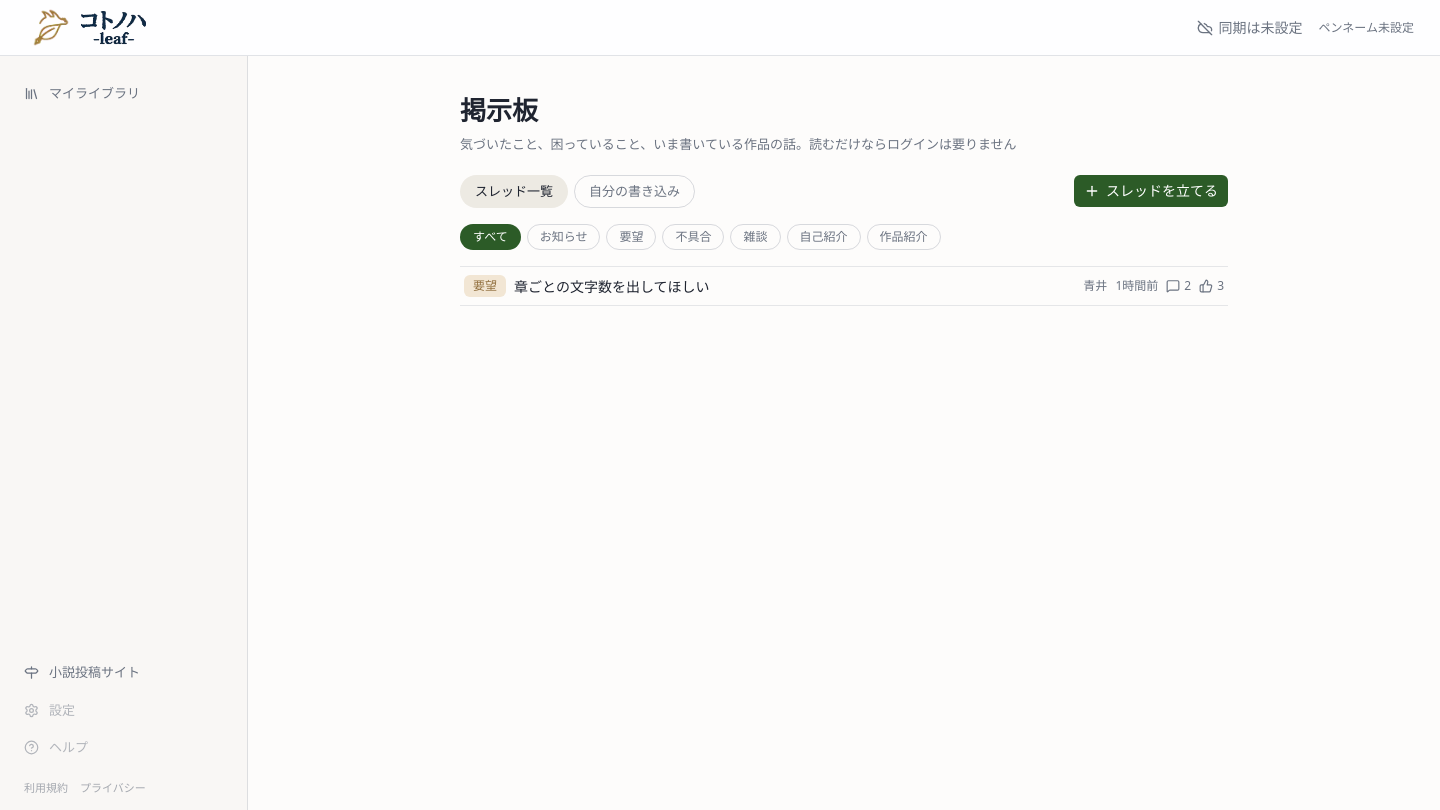
BoardPage（掲示板の一覧） › 立てたスレッドが、読み込み直さなくても一覧に出る
Expected: the heading "章ごとの文字数を出してほしい" is shown, 514,276 -> 710,296
Click the button "スレッドを立てる" at (1151, 191), box 1074,175 -> 1228,207
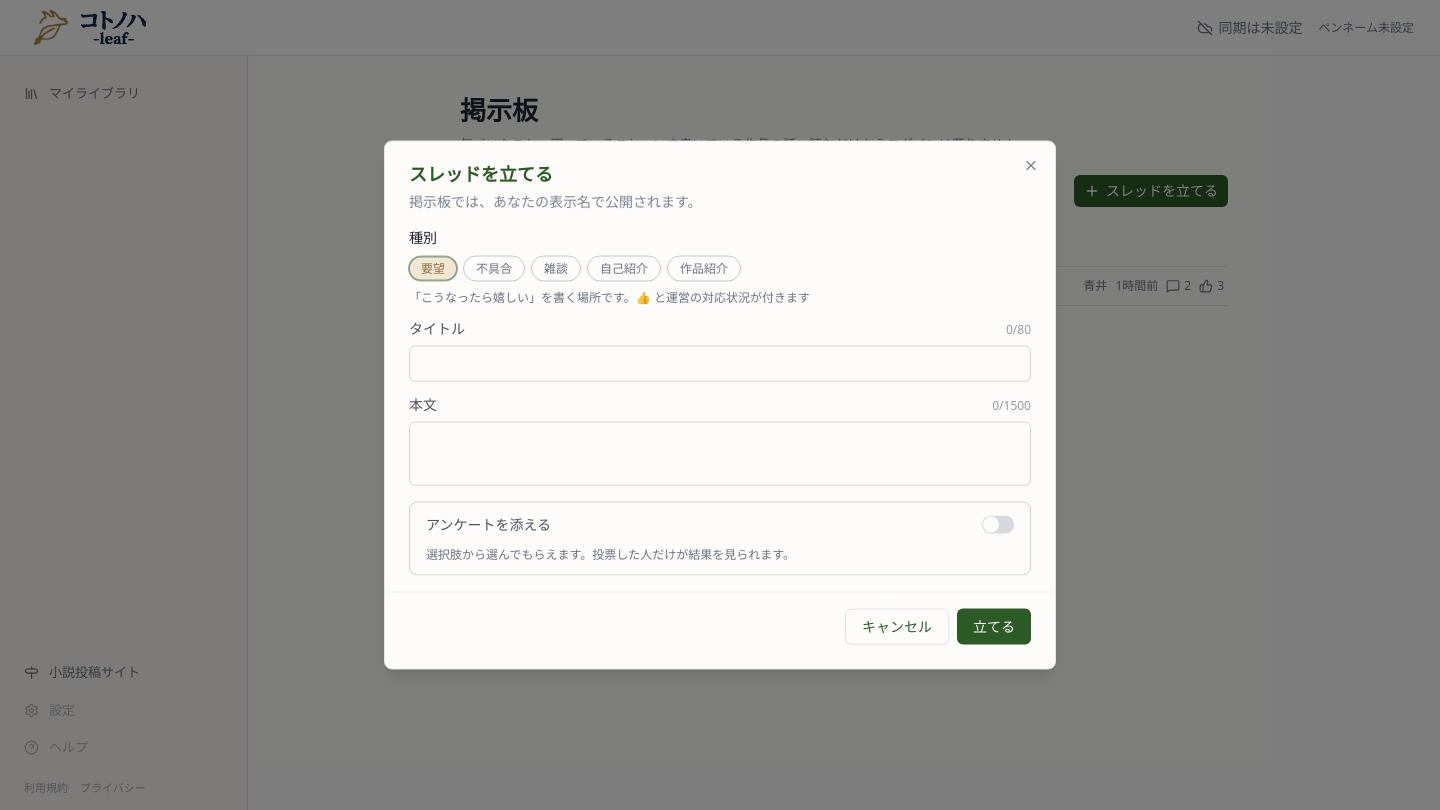
Type "新しく立てたスレ" into the field labelled "タイトル" at (720, 364), box 409,346 -> 1031,382
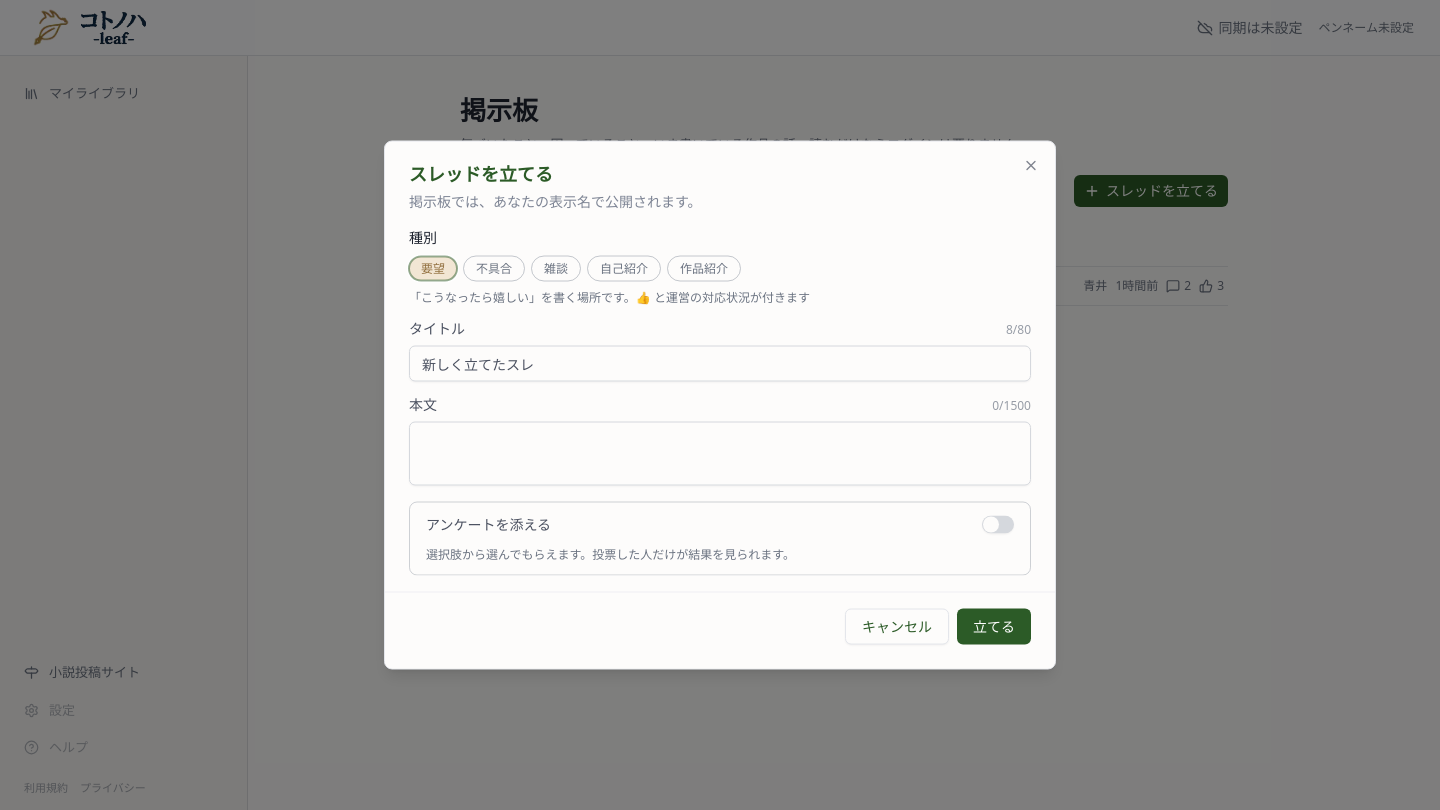
Type "本文です" into the text box labelled "本文" at (720, 454), box 409,422 -> 1031,486
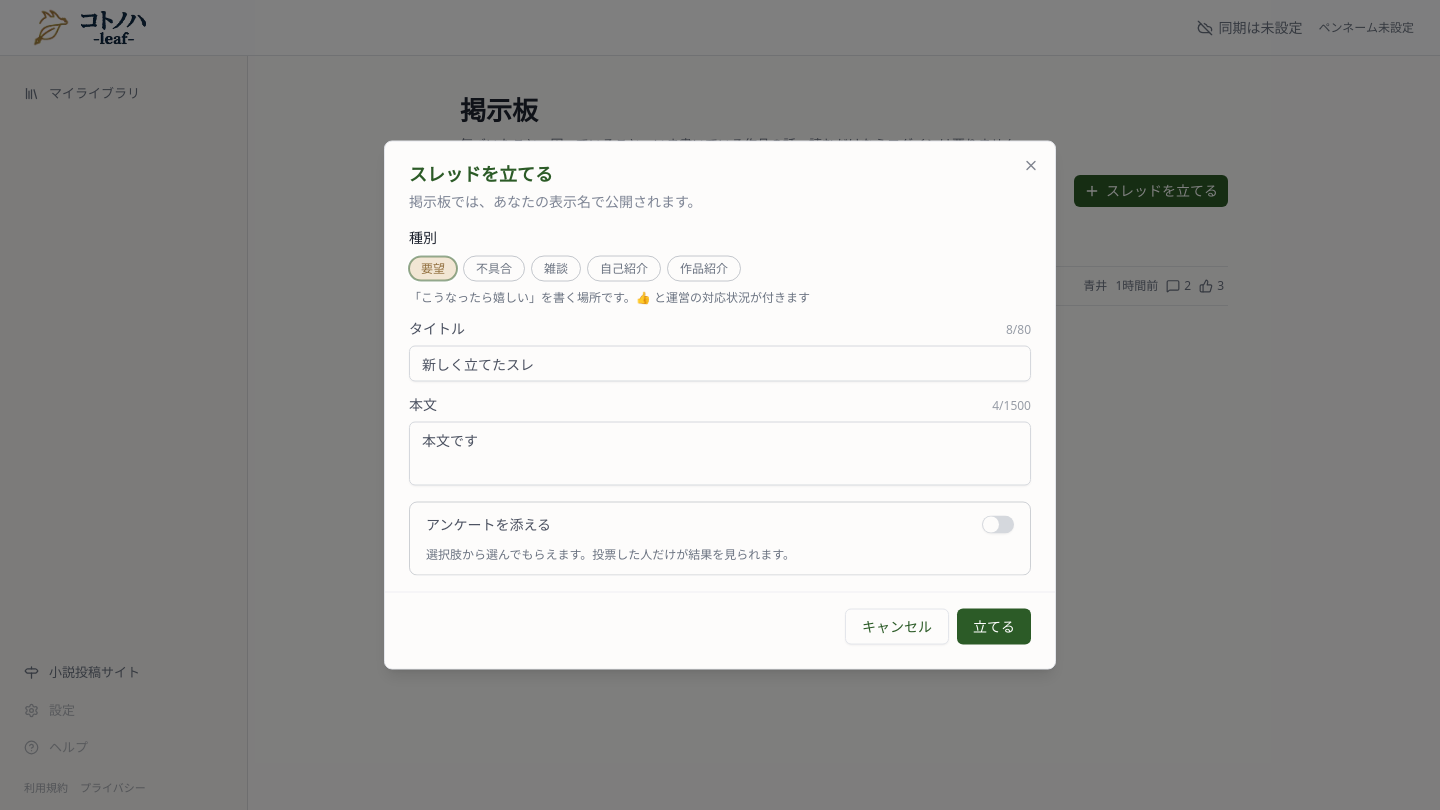
Click the button "立てる" at (994, 626), box 957,608 -> 1031,644
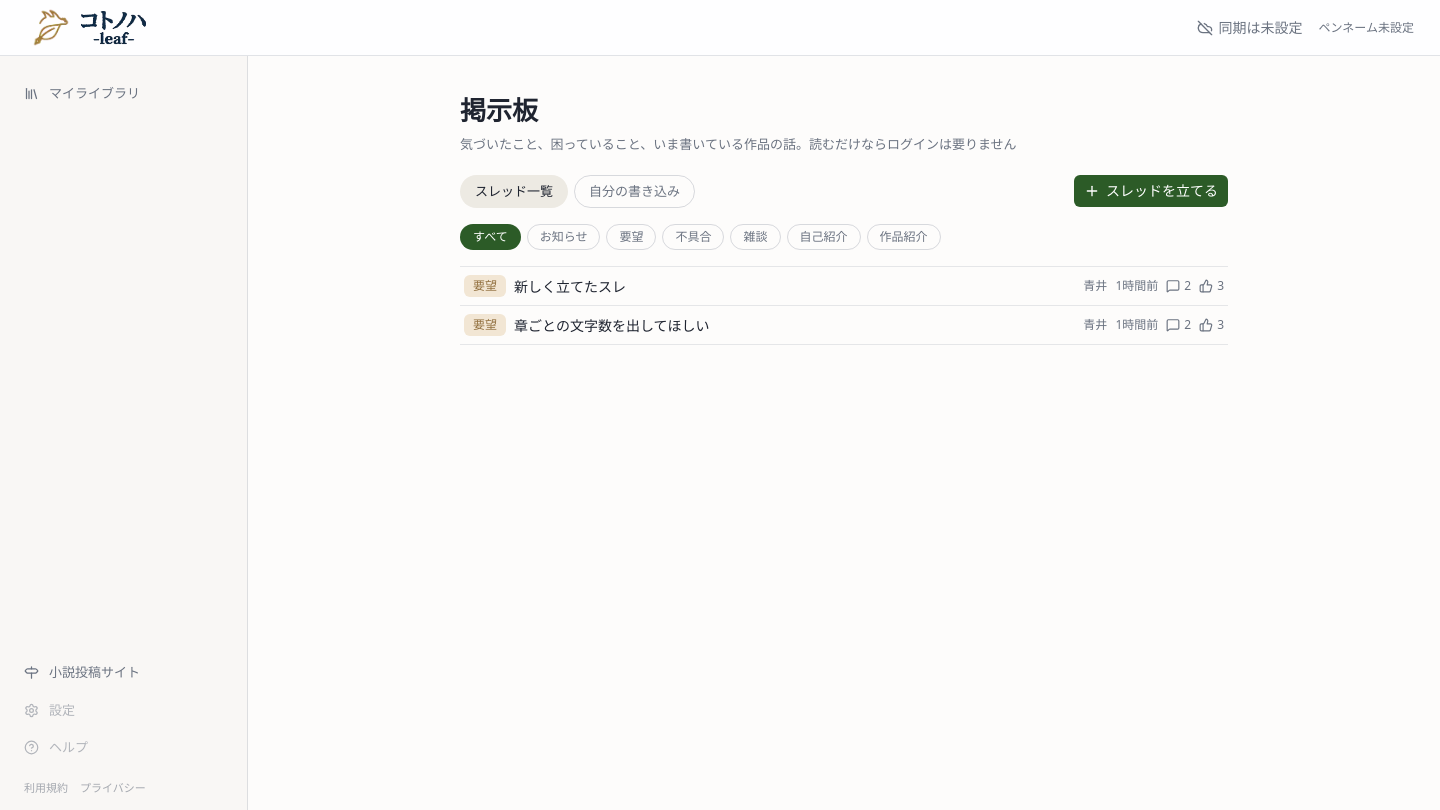
Now the heading "新しく立てたスレ" is shown, box 514,276 -> 626,296
